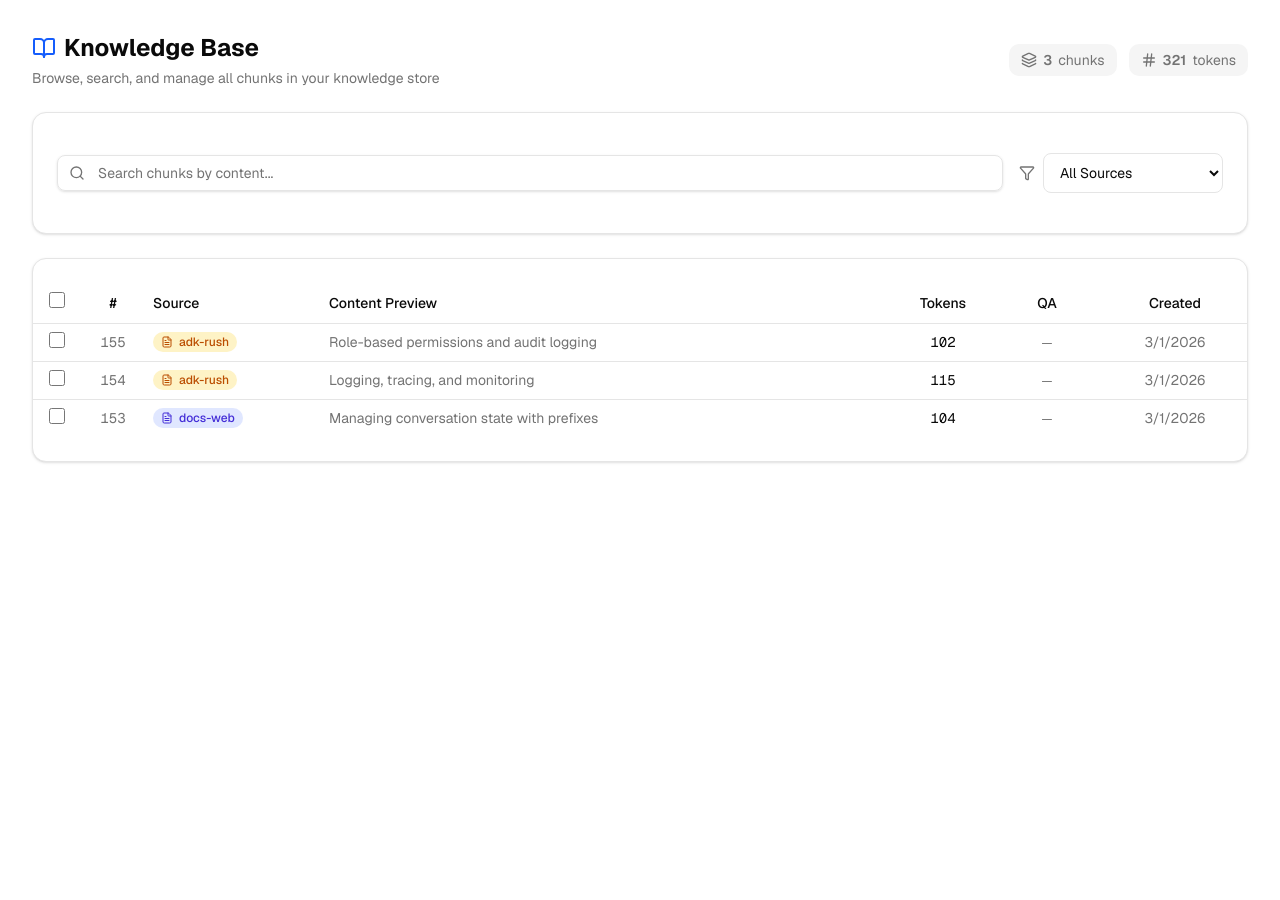
it: KnowledgePage — Selective Chunk QA (Issue #179) › select all checkbox selects all chunk checkboxes
Step 1. Click the checkbox named "Select all chunks" → coordinates (57, 300), box [49,292,65,308]
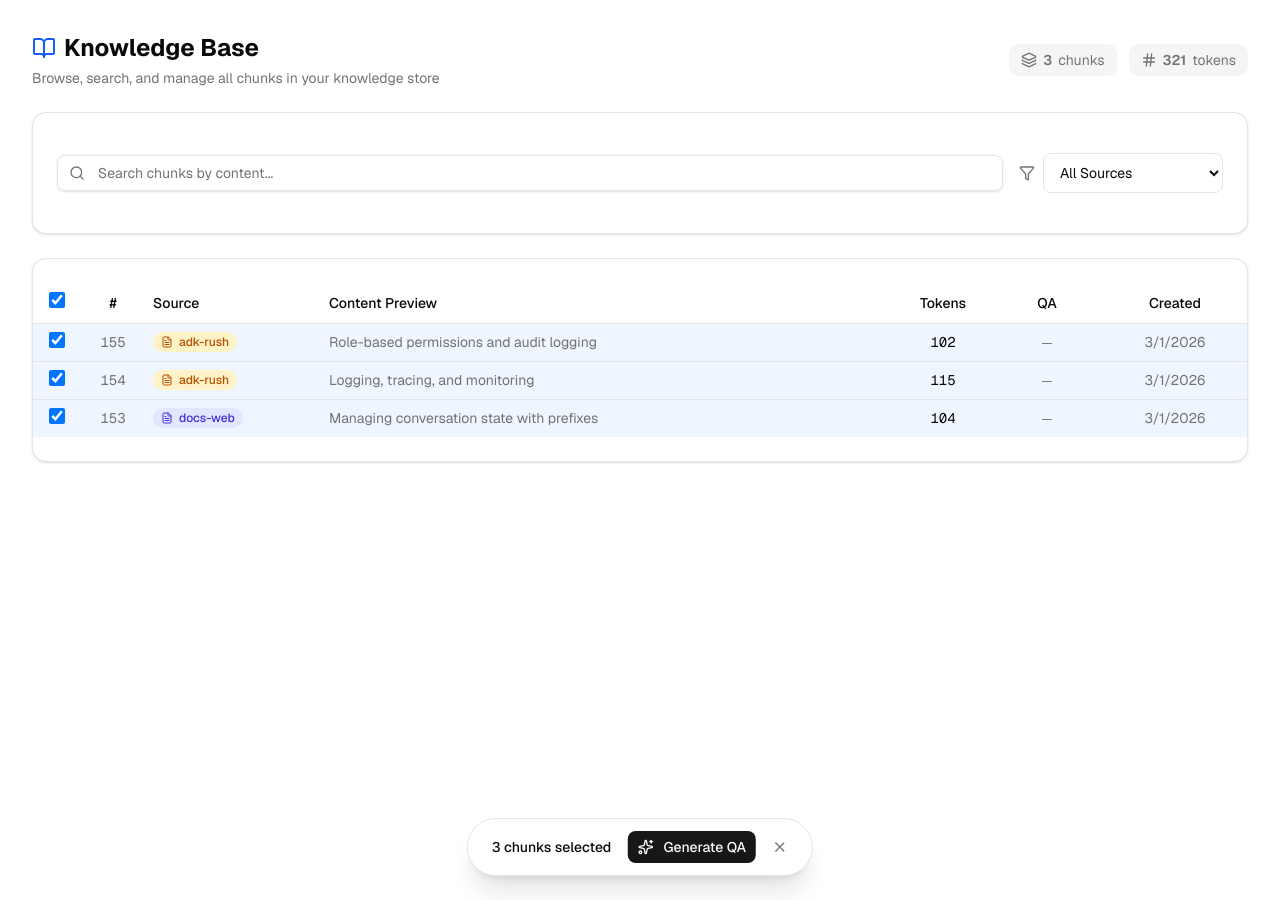
Expected: the checkbox named "Select all chunks" is checked, [49,292,65,308]
Expected: the checkbox named "Select chunk 155" is checked, [49,332,65,348]
Expected: the checkbox named "Select chunk 154" is checked, [49,370,65,386]
